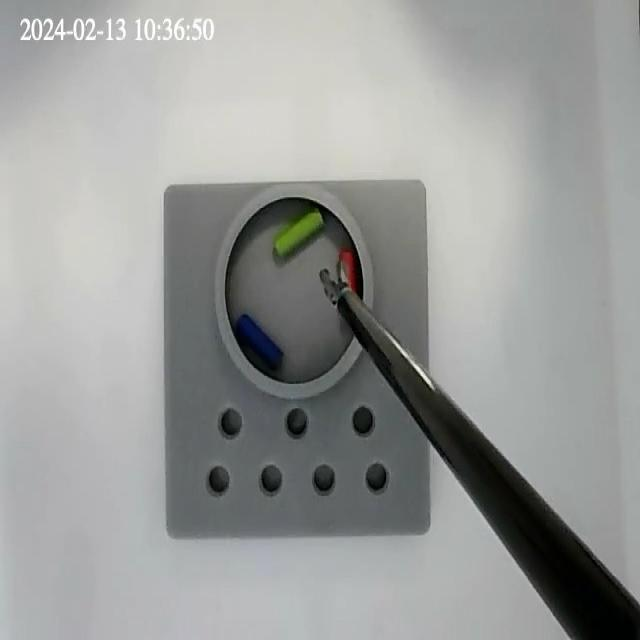EmptyHole: (362, 457, 392, 498), (311, 462, 337, 497), (258, 462, 284, 496), (219, 406, 245, 438), (351, 403, 374, 438), (284, 406, 308, 438), (208, 465, 230, 497)
